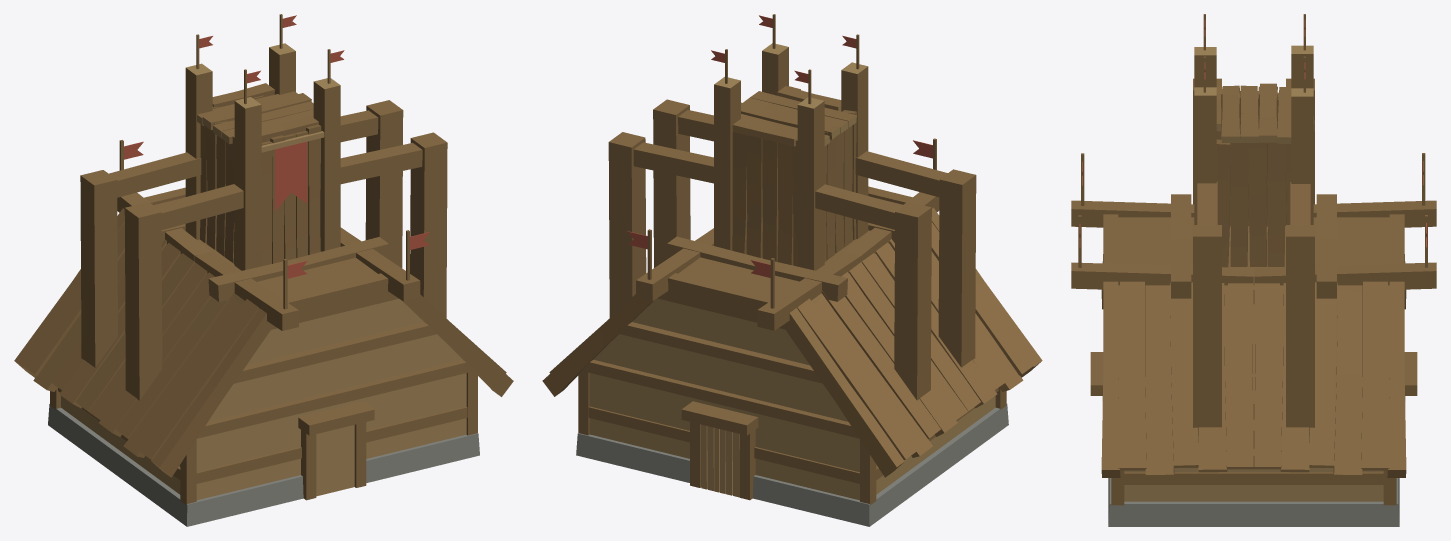
The model's file is Wooden house tower.glb.
3 renders of one model, left to right at view 1: azimuth 30°, elevation 25°; view 2: azimuth 150°, elevation 25°; view 3: azimuth 270°, elevation 25°, orthographic. The views are drawn at different scales.
Parts seen in each view (by area): view 1: TowerHouse_FirstAge; view 2: TowerHouse_FirstAge; view 3: TowerHouse_FirstAge.
Part boxes in pixels (left/top/right/bottom): TowerHouse_FirstAge: left=14, top=14, right=513, bottom=526; TowerHouse_FirstAge: left=542, top=14, right=1042, bottom=526; TowerHouse_FirstAge: left=1071, top=14, right=1436, bottom=526.
Bounding box in the file's own units: 1.39 × 1.47 × 1.17.
